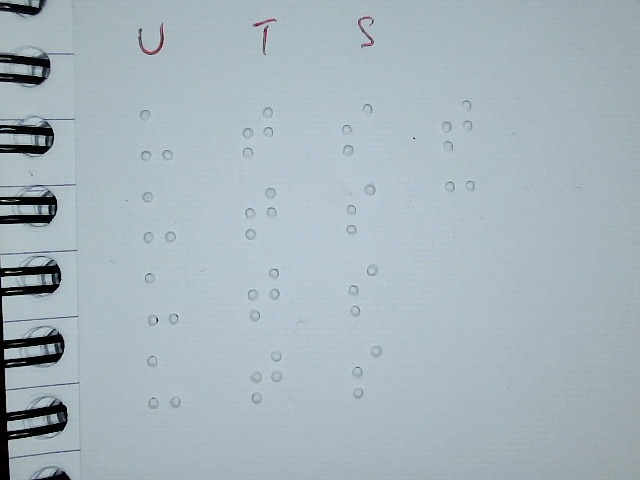S: (339, 101, 375, 156), (344, 181, 377, 237), (346, 262, 379, 318), (350, 343, 383, 399)
T: (240, 104, 276, 159), (243, 185, 279, 240), (246, 266, 282, 321), (248, 349, 284, 404)
U: (144, 270, 180, 326), (146, 353, 182, 409), (138, 107, 174, 162), (141, 189, 177, 244)
